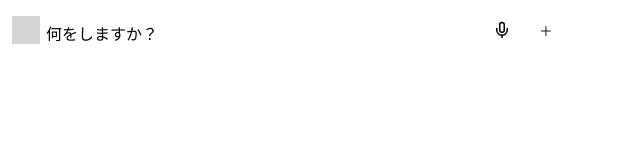
Test: intent bar (§4.3) › shows a short status instead of a bare spinner (§3)
In the text box named "依頼を入力": (262, 30) [44,19,480,41], type "調べて"
Then press Enter
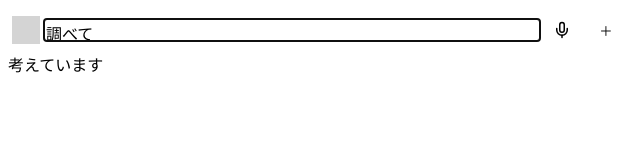
Check: the message reads "考えています", box [8,57,103,74]
